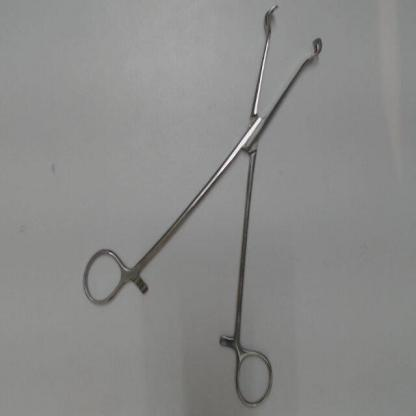8 Babcock Tissue Forceps: (78, 0, 330, 412)
